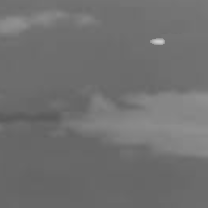Target: (149, 37, 166, 46)
